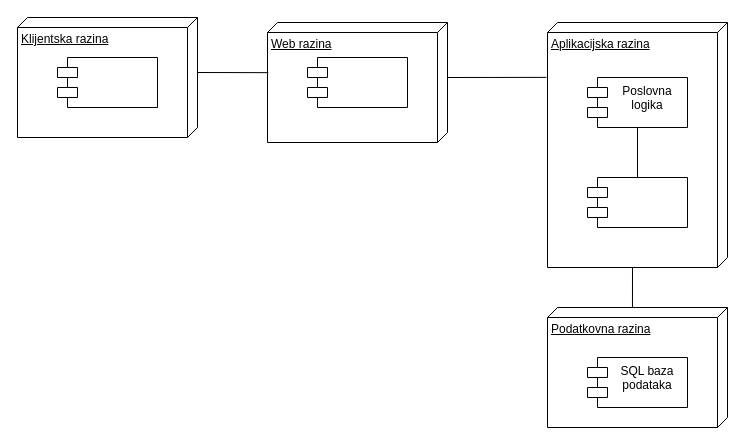
This 745x445 diagram has some shape labels left out. Each missing label, with the centre of its shape:
"Desktop Mobitel Tablet" belongs at [107,82].
"Korisničko sučelje" belongs at [357,82].
"Pristup podacima" belongs at [637,202].
